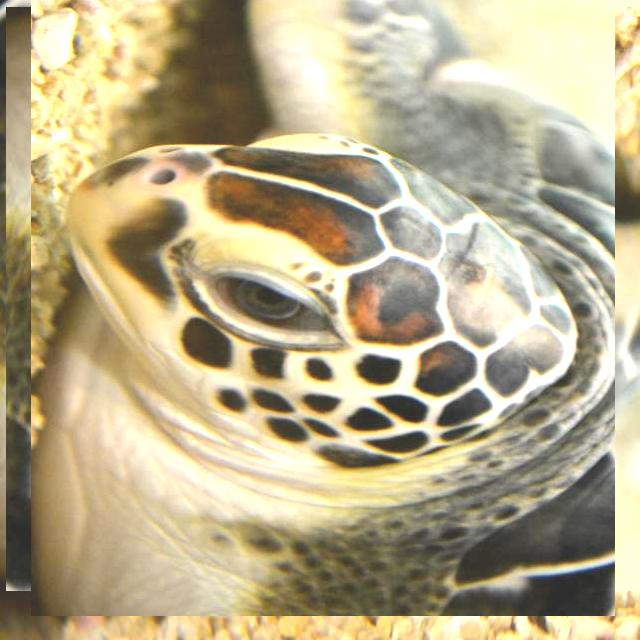Sea turtle: (18, 0, 627, 603)
